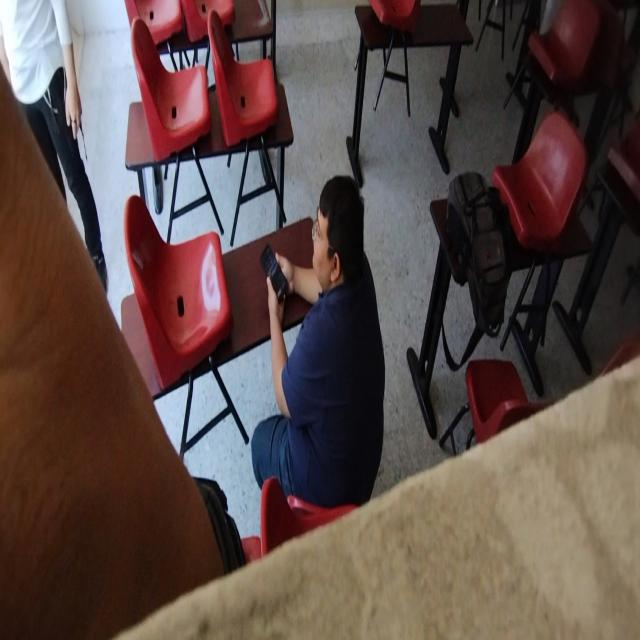adult: (252, 179, 388, 504)
